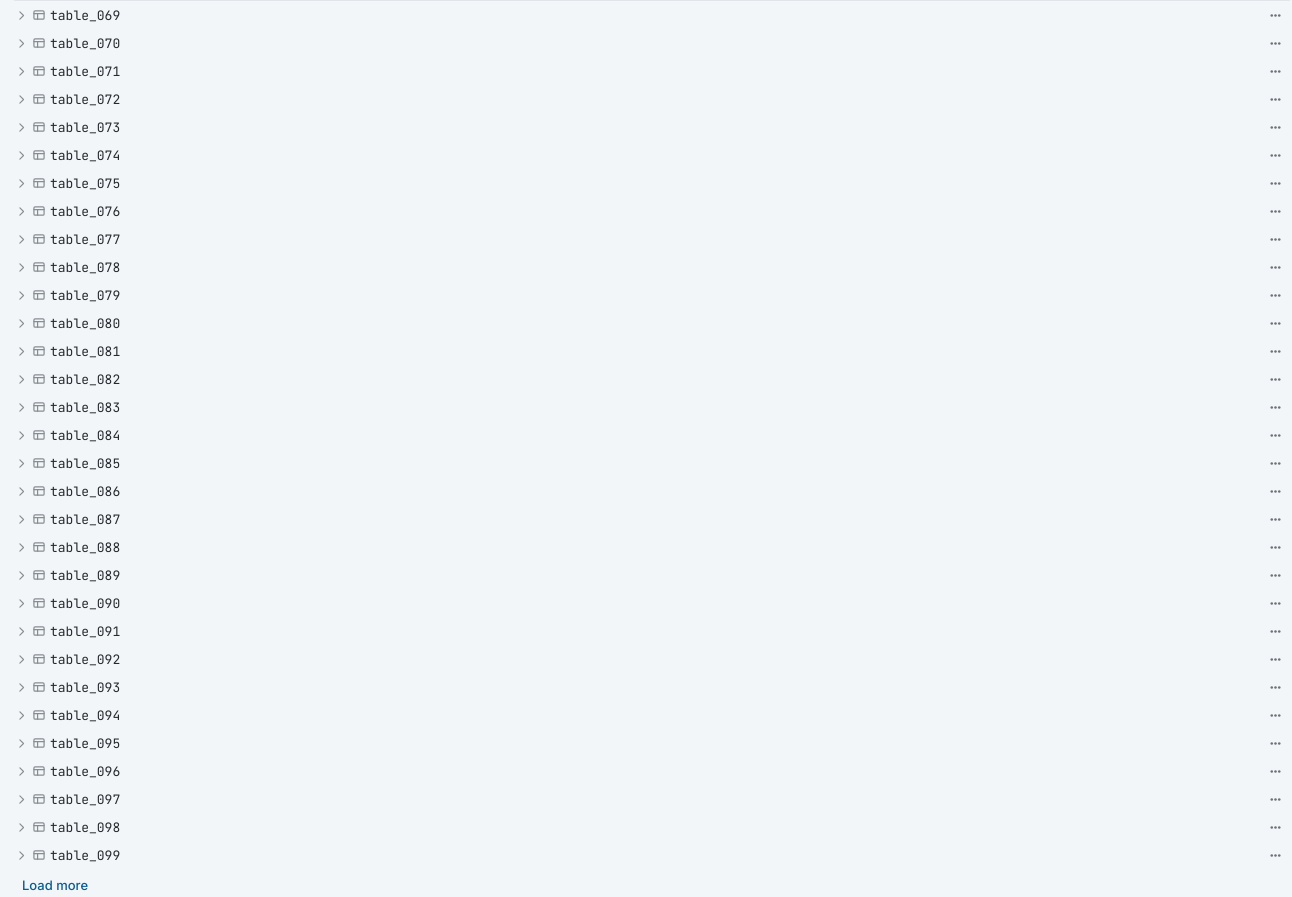
Test: TableList › shows 100 tables per schema then Load more reveals the next batch
(page scrolled)
Expected: the button "table_099" is shown, top-left (48, 843), bottom-right (1260, 868)
Expected: the button "table_100" is not shown
Click the button "Load more" at (55, 885), box top-left (16, 873), bottom-right (94, 896)
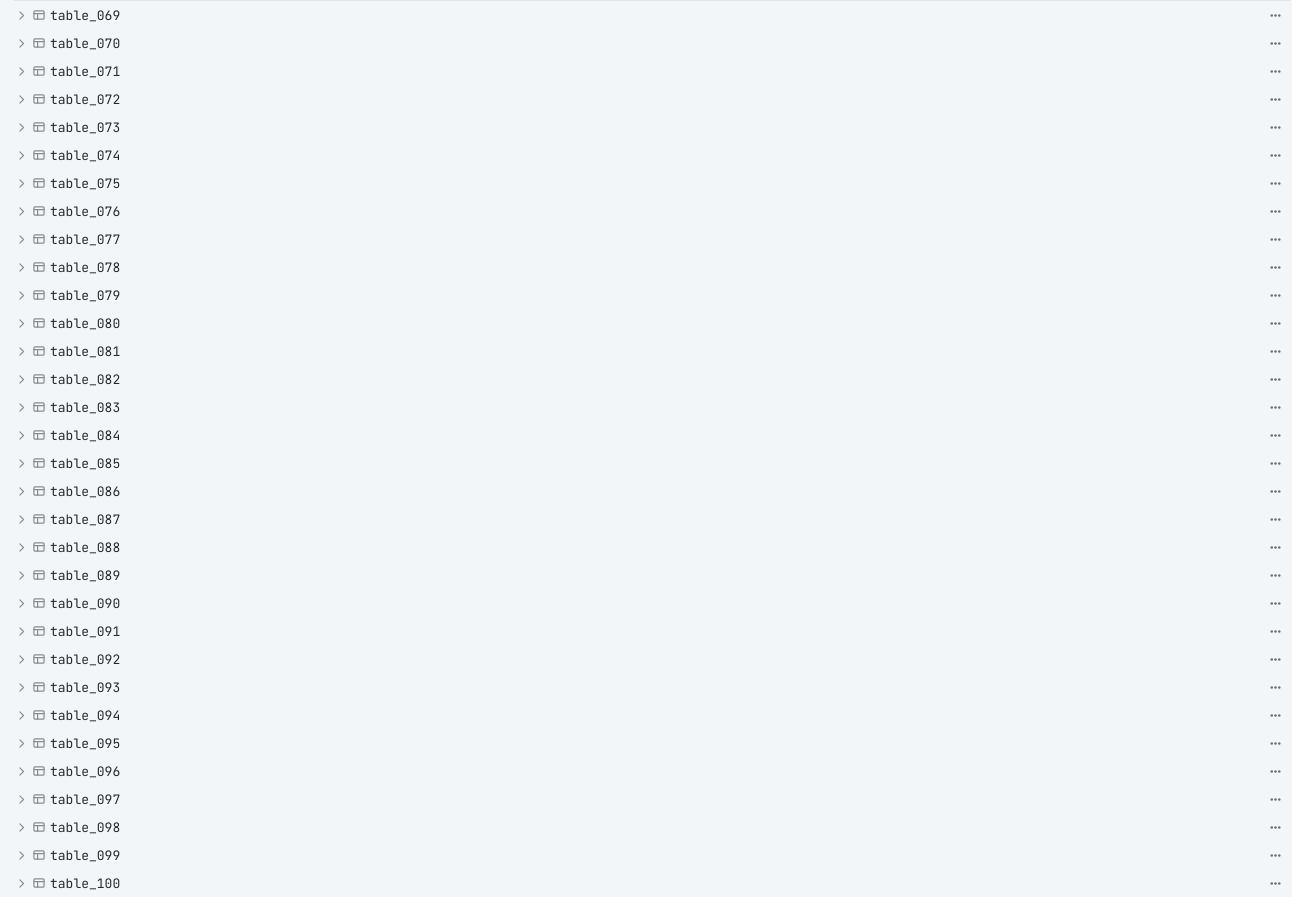
Now the button "table_100" is shown, box top-left (48, 871), bottom-right (1260, 896)
